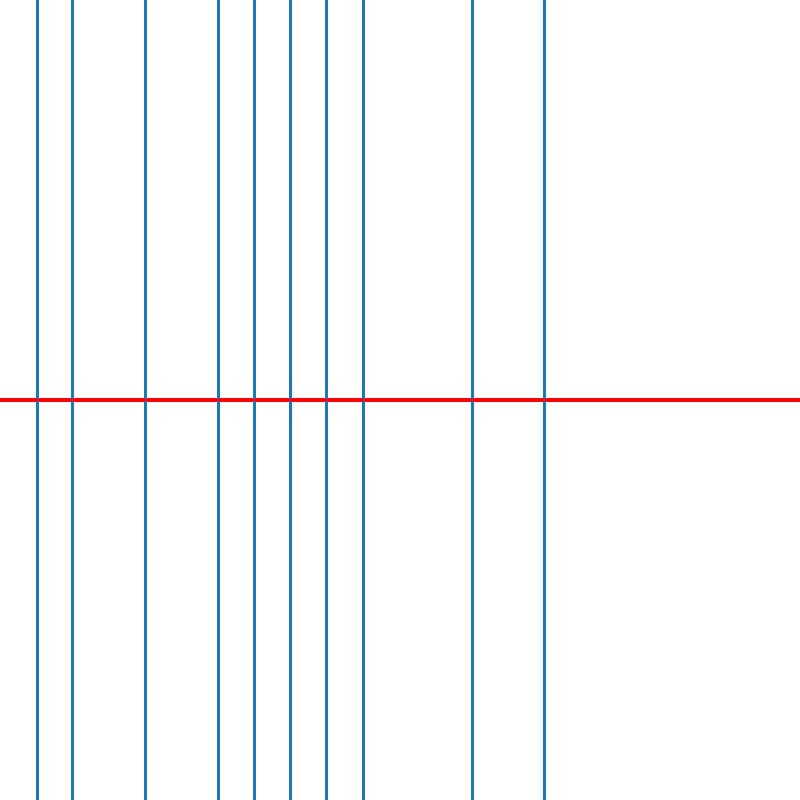root: (32, 396, 40, 404), (141, 396, 149, 404), (541, 396, 549, 404), (250, 396, 258, 404), (214, 396, 221, 404), (69, 396, 76, 404), (469, 396, 476, 404), (360, 396, 367, 404), (287, 396, 294, 404), (323, 396, 330, 404)
